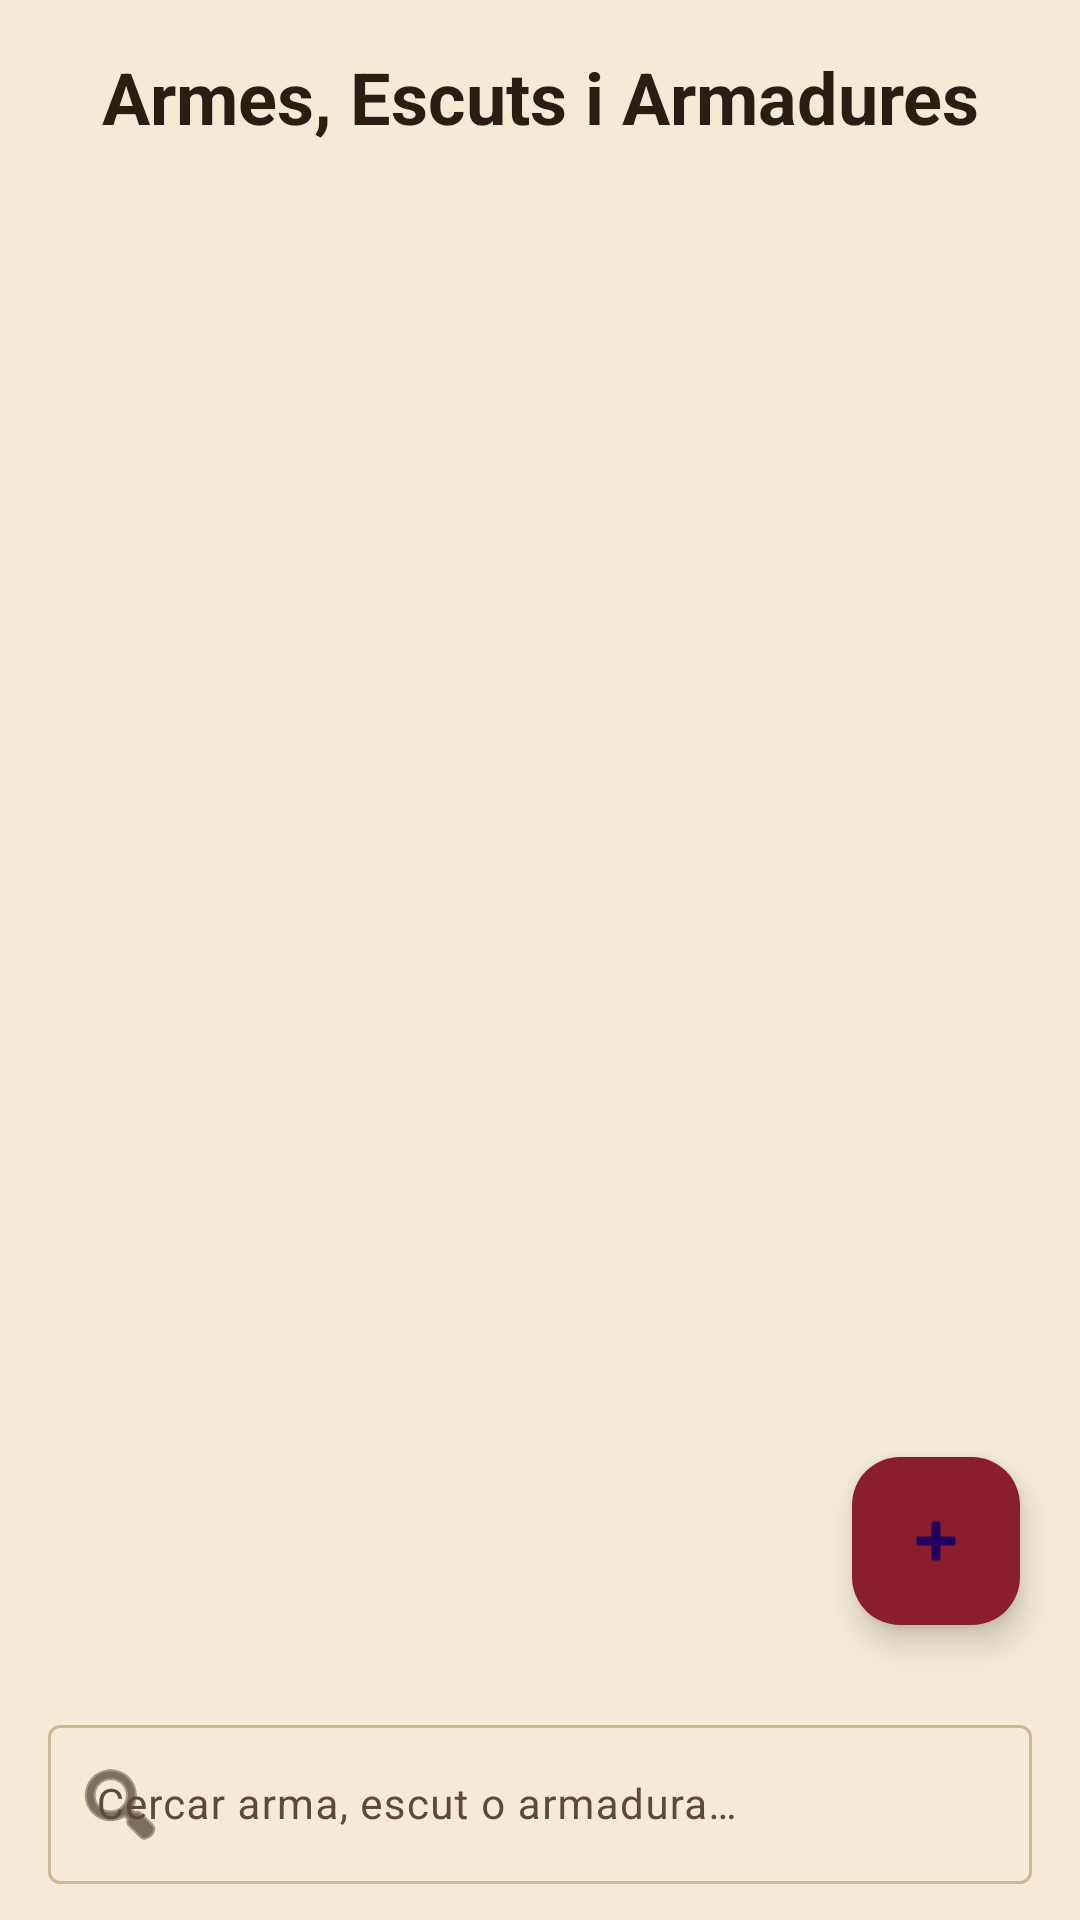

Named icons in this screenshot (1080x1920) and their centers, [x,y]:
Afegir arma, escut o armadura: [936,1541]
